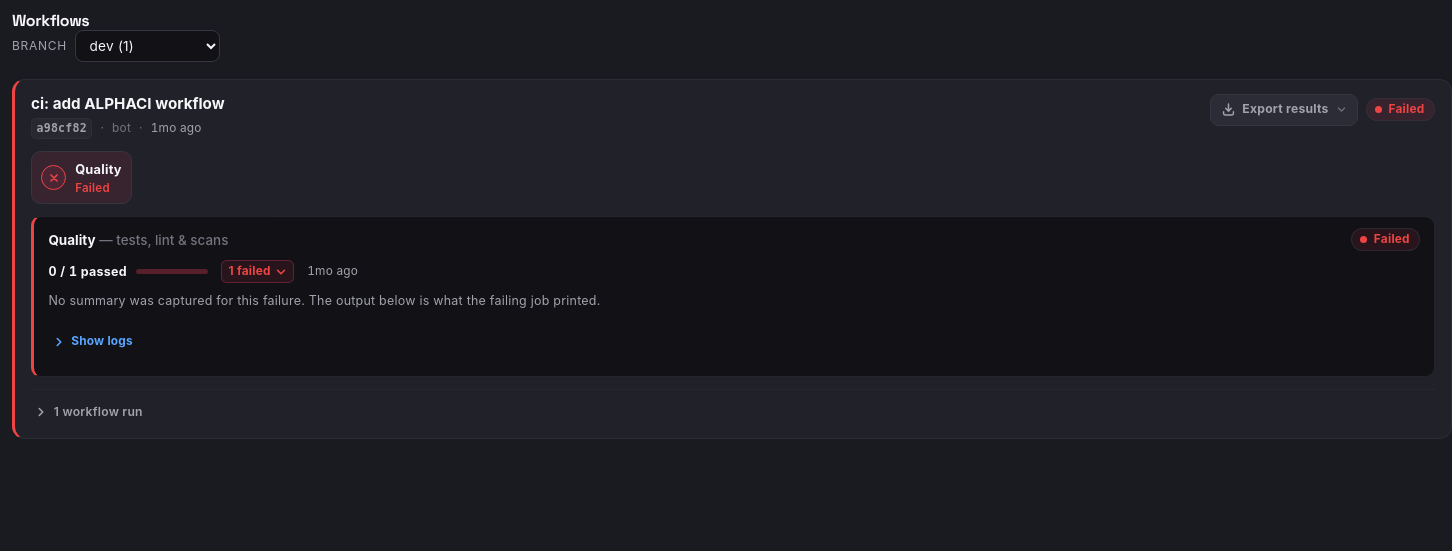
PipelineRunsTab summary vs deep debug › shows the log after Show logs is pressed, and hides it again
Step 1. Click the button "Show logs" → (102, 341), box [48,320,1420,364]
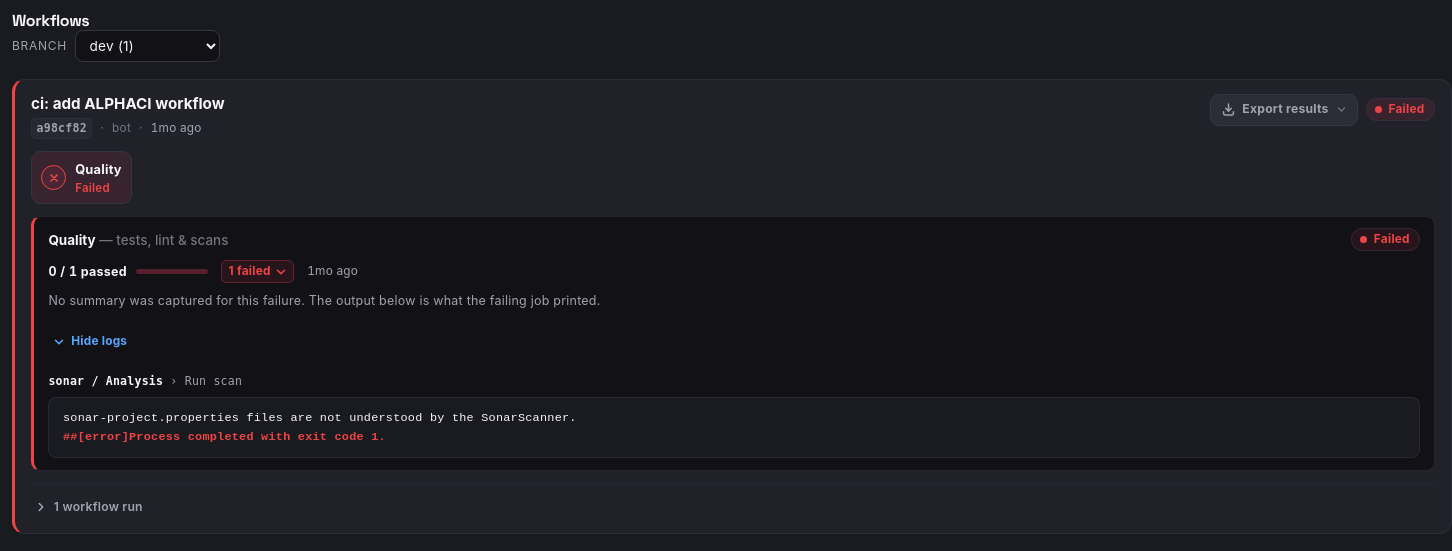
expect the button "Hide logs" is expanded: met
expect the button "Hide logs" is shown: met
expect the text "sonar-project.properties files are not understood by the SonarScanner." is shown: met, box [63,411,577,425]
Step 2. Click the button "Hide logs" → (99, 341), box [48,320,1420,364]
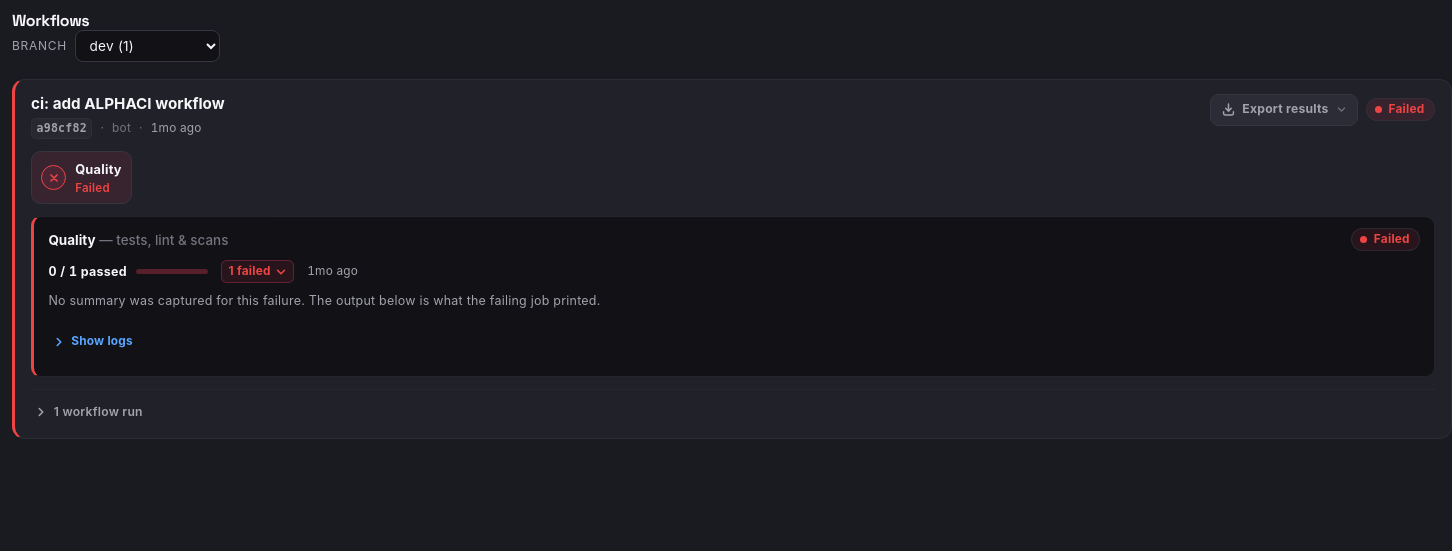
expect the button "Show logs" is collapsed: met, box [48,320,1420,364]
expect the text "sonar-project.properties files are not understood by the SonarScanner." is gone: met
